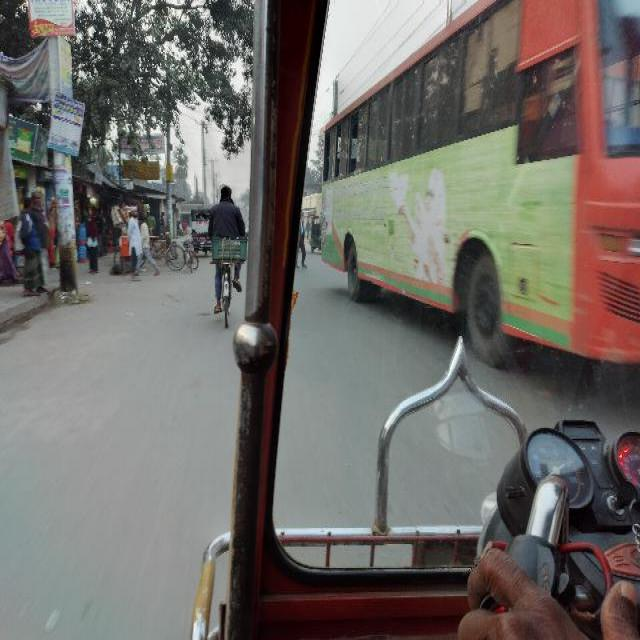bike: (209, 186, 247, 336), (183, 233, 201, 276)
vehicle: (322, 2, 640, 379), (112, 206, 187, 274), (190, 207, 215, 256), (309, 215, 325, 255)
